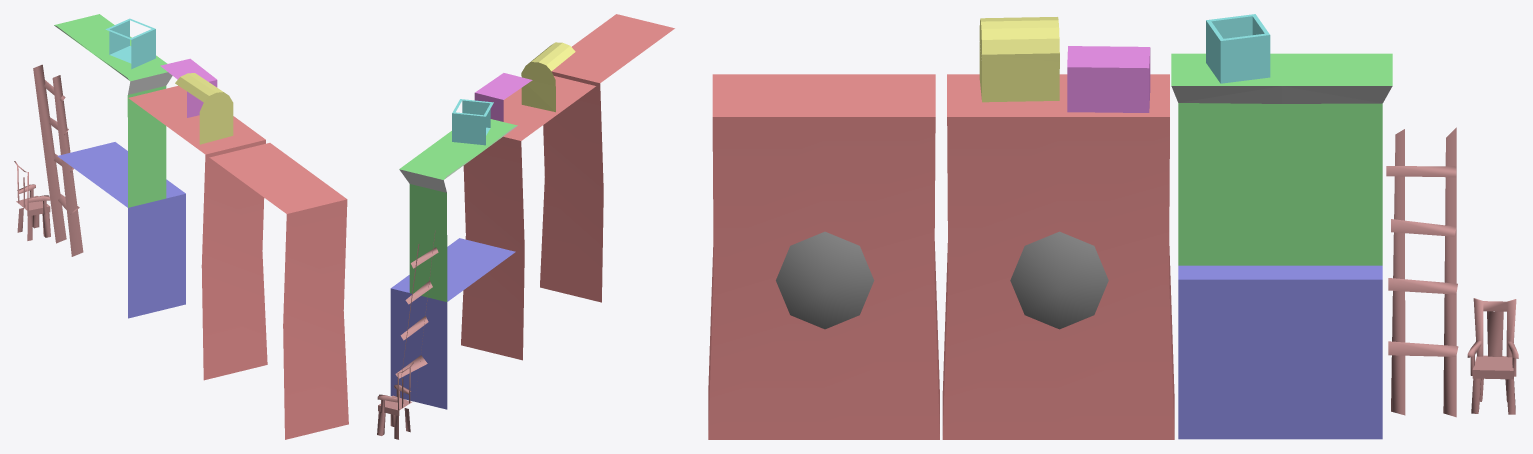
Rendered from interior_Aa_s__boox03_sadari.gltf.
The picture shows the model from 3 angles, left to right: view 1: azimuth 30°, elevation 25°; view 2: azimuth 150°, elevation 25°; view 3: azimuth 270°, elevation 25°; orthographic projection. The views are drawn at different scales.
Parts seen in each view (by area): view 1: boox03_sadari; view 2: boox03_sadari; view 3: boox03_sadari.
Boxes of the visible parts, x1,y1,x2,y2 form: boox03_sadari: (14,14,348,439); boox03_sadari: (377,14,674,439); boox03_sadari: (708,14,1518,439).
Size of the model in its own units: 0.3717 by 1.28 by 2.39.
